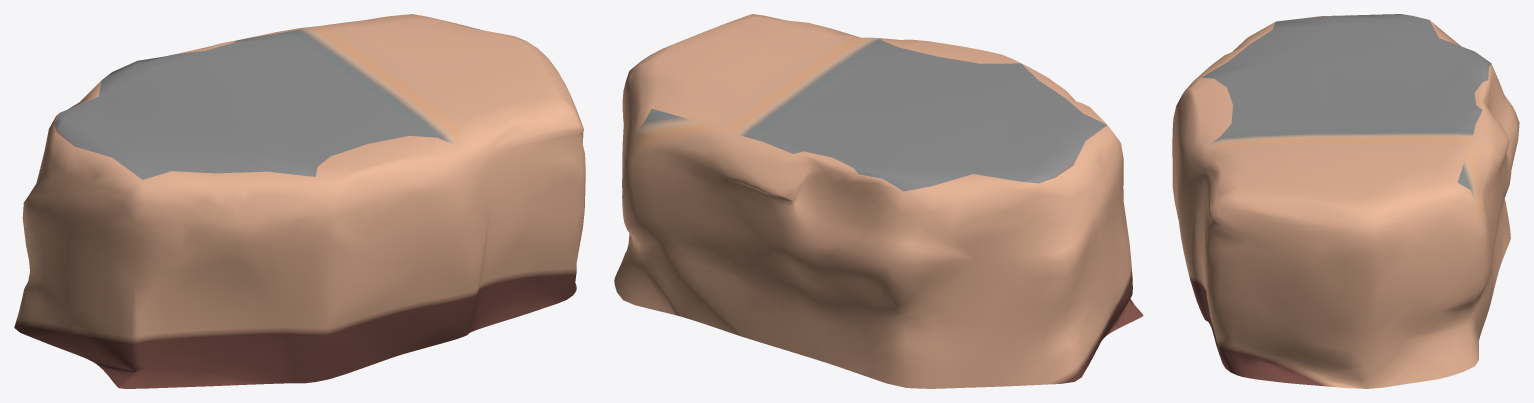
Rendered from SM_Cliff1_LOD1UV.fbx.
3 renders of one model, left to right at view 1: azimuth 30°, elevation 25°; view 2: azimuth 150°, elevation 25°; view 3: azimuth 270°, elevation 25°, orthographic. The views are drawn at different scales.
Parts seen in each view (by area): view 1: SM_Cliff1_LOD1; view 2: SM_Cliff1_LOD1; view 3: SM_Cliff1_LOD1.
Part boxes in pixels (x1,y1,x2,y2): SM_Cliff1_LOD1: (14,14,585,388); SM_Cliff1_LOD1: (614,14,1143,388); SM_Cliff1_LOD1: (1172,14,1519,388).
Size of the model in its own units: 16.7 by 6.45 by 11.32.
